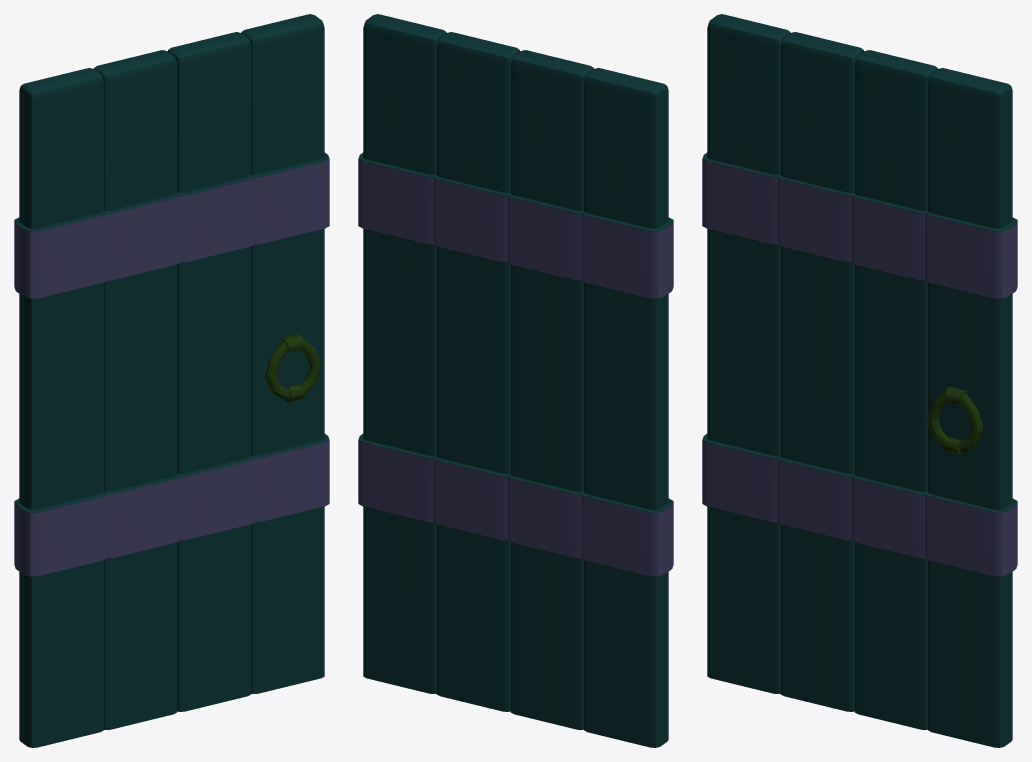
Rendered from Door.fbx.
3 views of the same model, side by side, from view 1: azimuth 30°, elevation 25°; view 2: azimuth 150°, elevation 25°; view 3: azimuth 330°, elevation 25° (orthographic).
Visible parts, largest first — view 1: Door_Door5; view 2: Door_Door5; view 3: Door_Door5.
Boxes of the visible parts, left/top/right/bottom form: Door_Door5: left=14, top=14, right=329, bottom=747; Door_Door5: left=358, top=14, right=673, bottom=747; Door_Door5: left=702, top=14, right=1017, bottom=747.
Bounding box in the file's own units: 2.18 × 4.5 × 0.3361.
